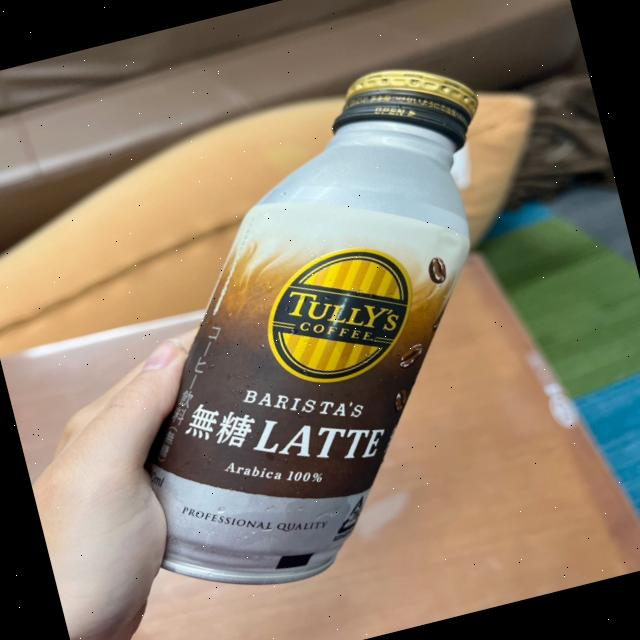coffee-latte: (57, 37, 580, 606)
